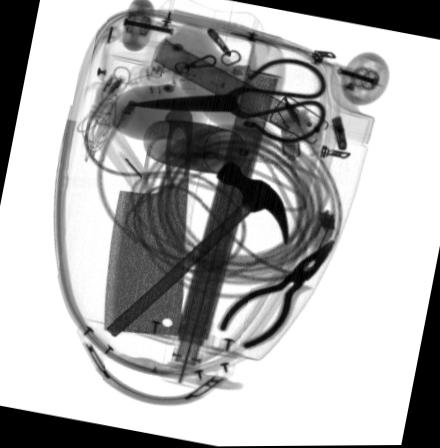Hammer: (104, 160, 288, 338)
Knife: (102, 110, 191, 337)
Pliers: (216, 239, 334, 350)
Scissors: (124, 58, 325, 143)
